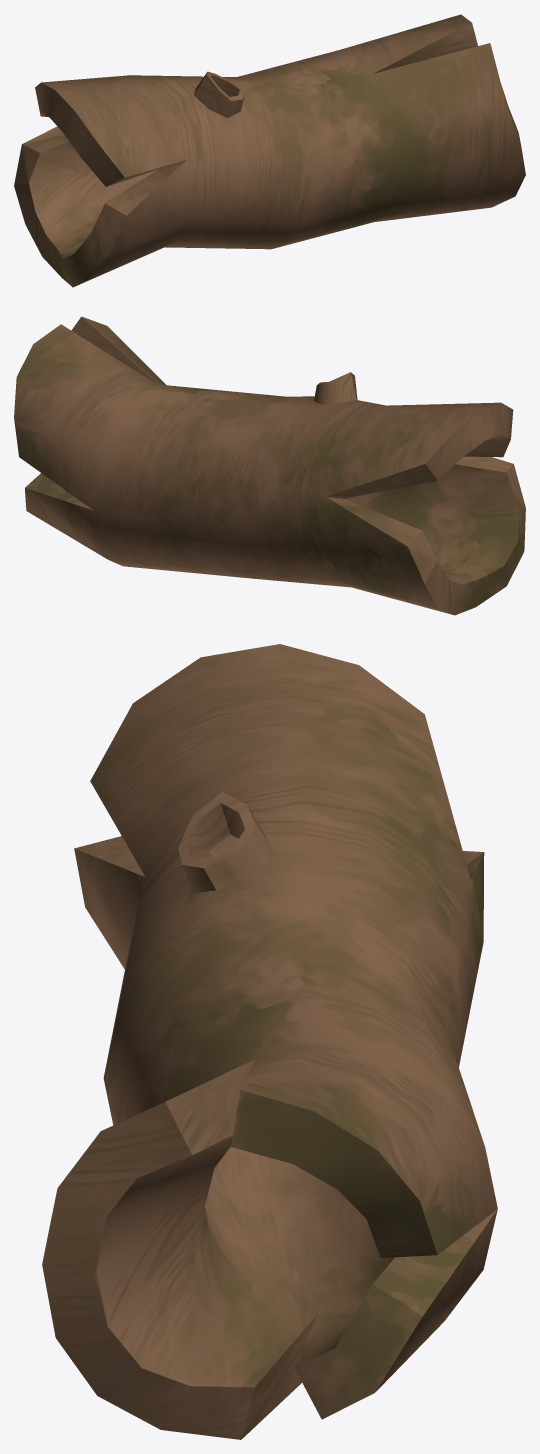
Rendered from konar_2.obj.
The picture shows the model from 3 angles, top to bottom: view 1: azimuth 30°, elevation 25°; view 2: azimuth 150°, elevation 25°; view 3: azimuth 270°, elevation 25°; orthographic projection. The views are drawn at different scales.
Visible parts, largest first — view 1: Circle; view 2: Circle; view 3: Circle.
Part boxes in pixels (x1,y1,x2,y2): Circle: [14, 14, 525, 287]; Circle: [14, 316, 525, 615]; Circle: [42, 644, 497, 1439].
Size of the model in its own units: 11.79 by 5.46 by 5.39.
1 material, 1 textured.
